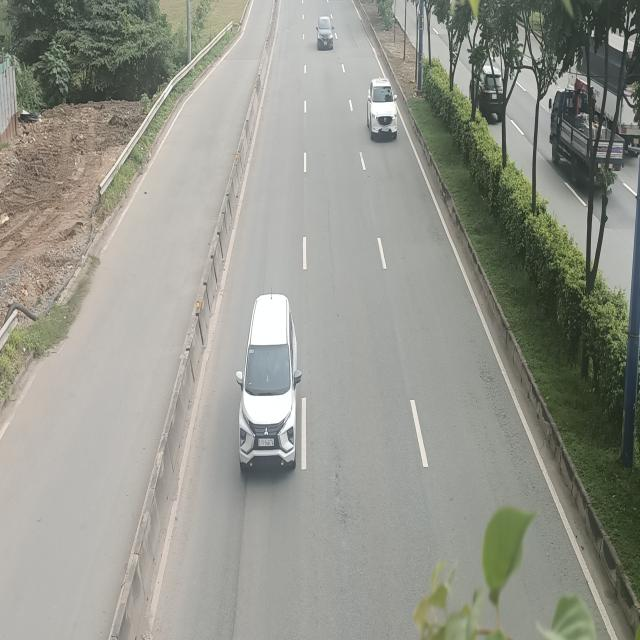car: (237, 294, 302, 470), (368, 81, 398, 141), (316, 15, 334, 50)
